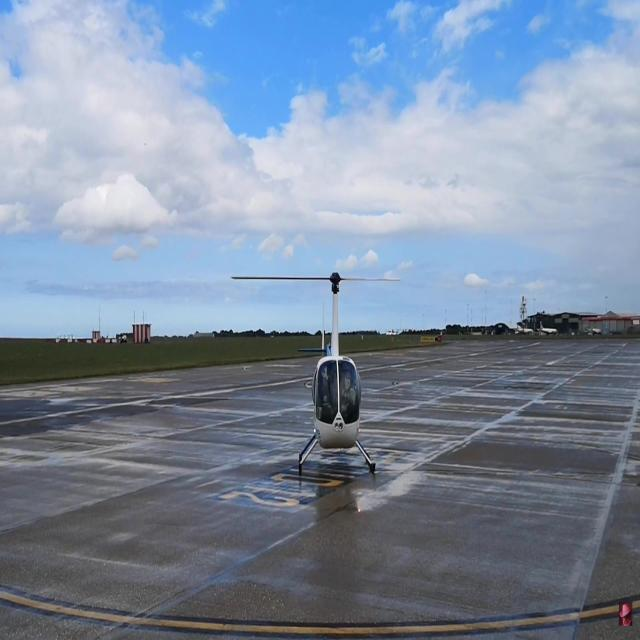CIV_HELO: (298, 270, 378, 474)
